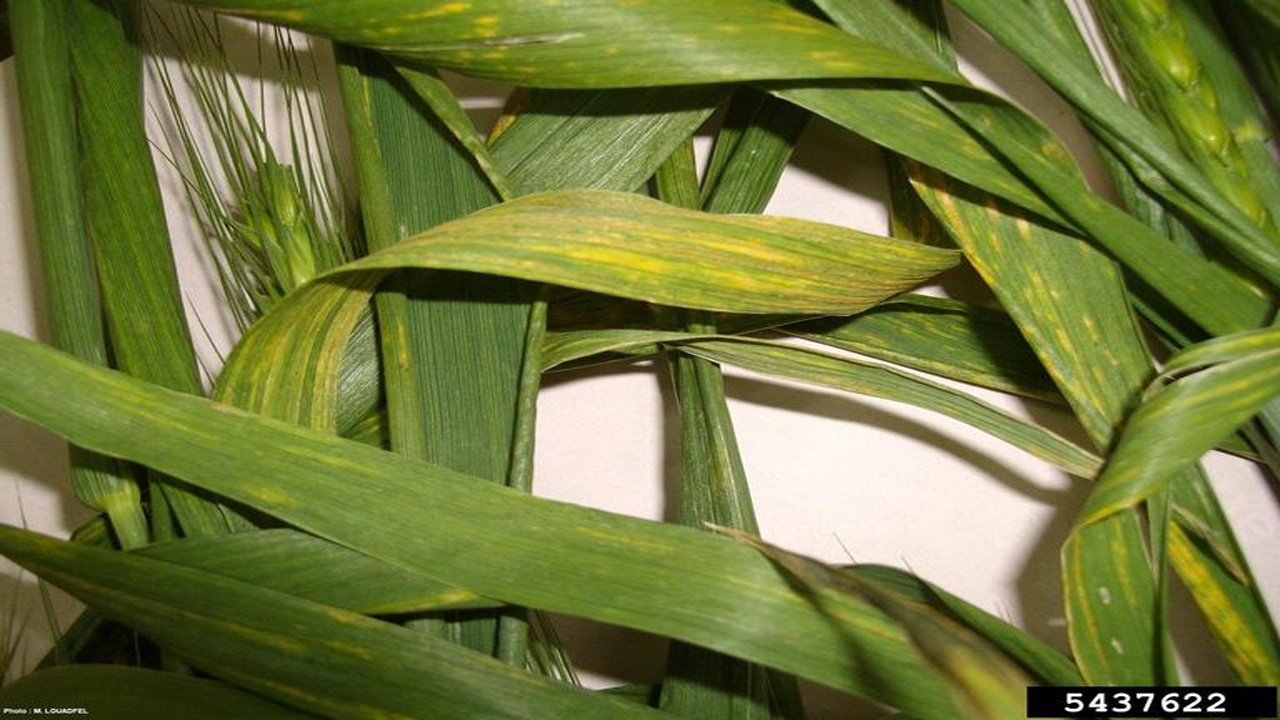stripe_rust: (915, 110, 1277, 684), (345, 187, 965, 315), (204, 253, 337, 437)
